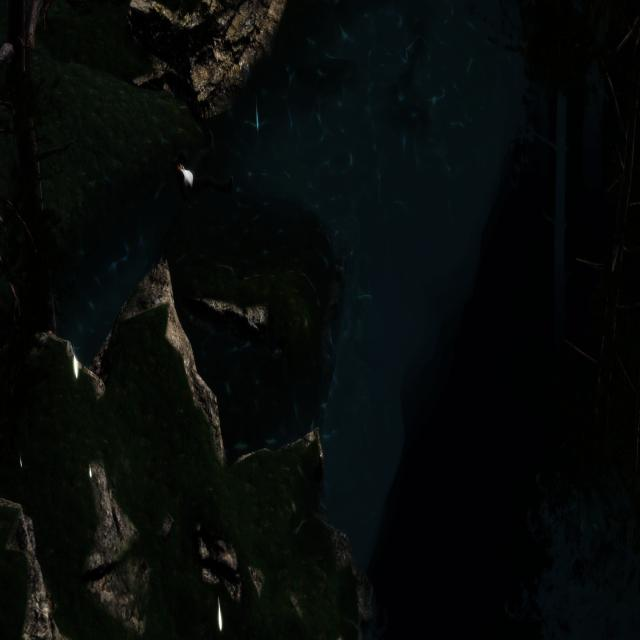Human: (168, 120, 236, 203)
